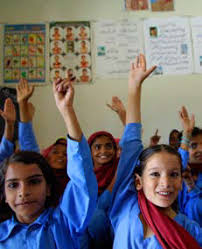student: (1, 159, 51, 216), (135, 151, 183, 207), (85, 130, 125, 163)
